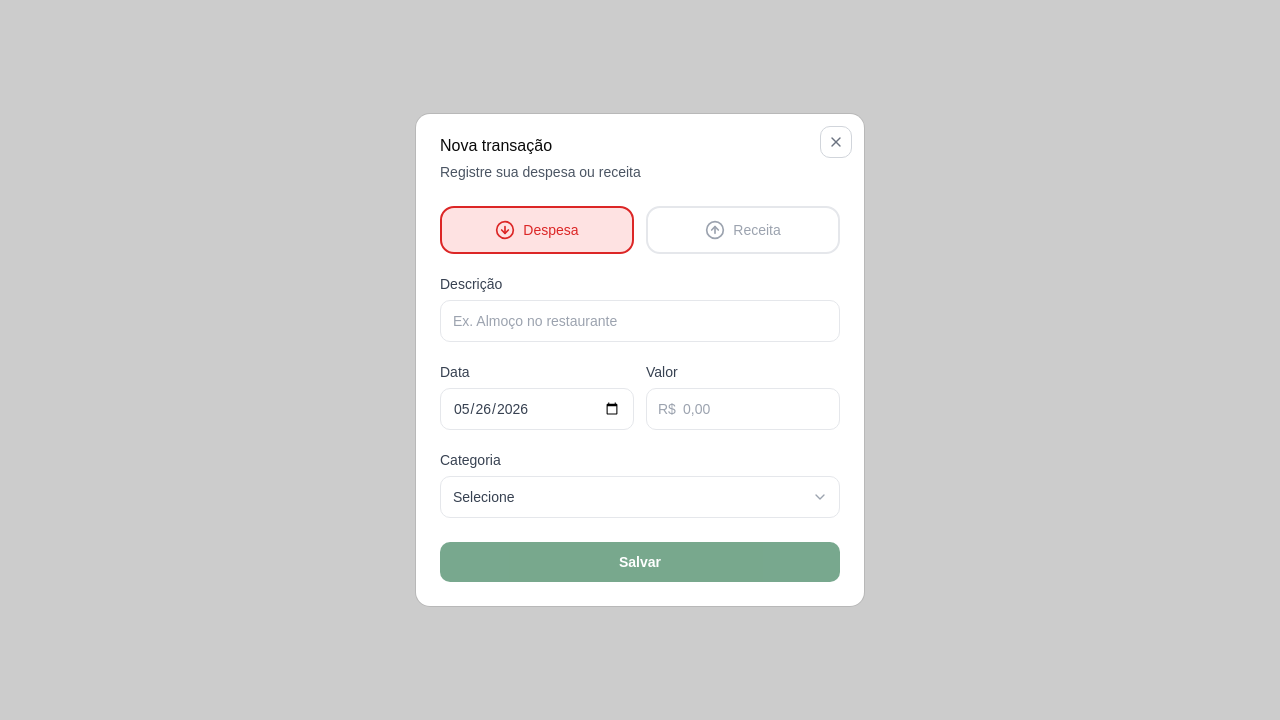
Test: TransactionFormDialog › shows amount validation error for negative value
In the number field with placeholder "0,00": (743, 409) [646,388,840,430], type "-10"
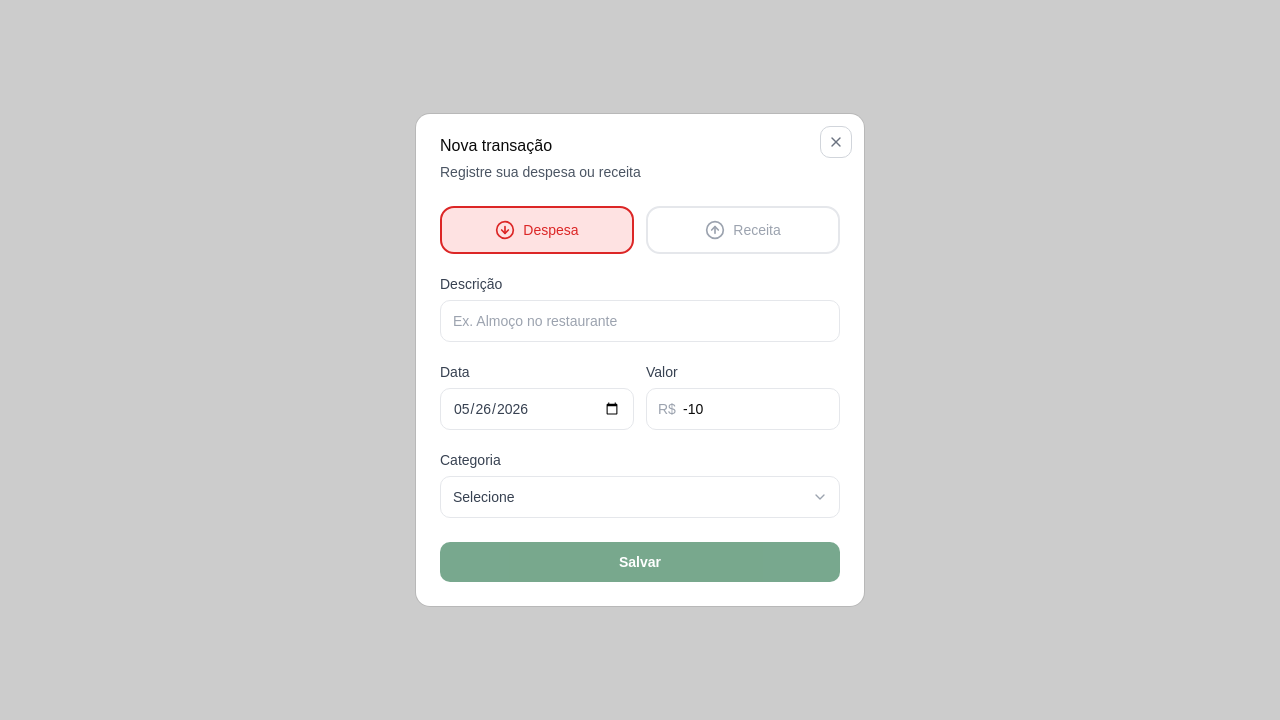
Click the button "Salvar": (640, 562) [440,542,840,582]
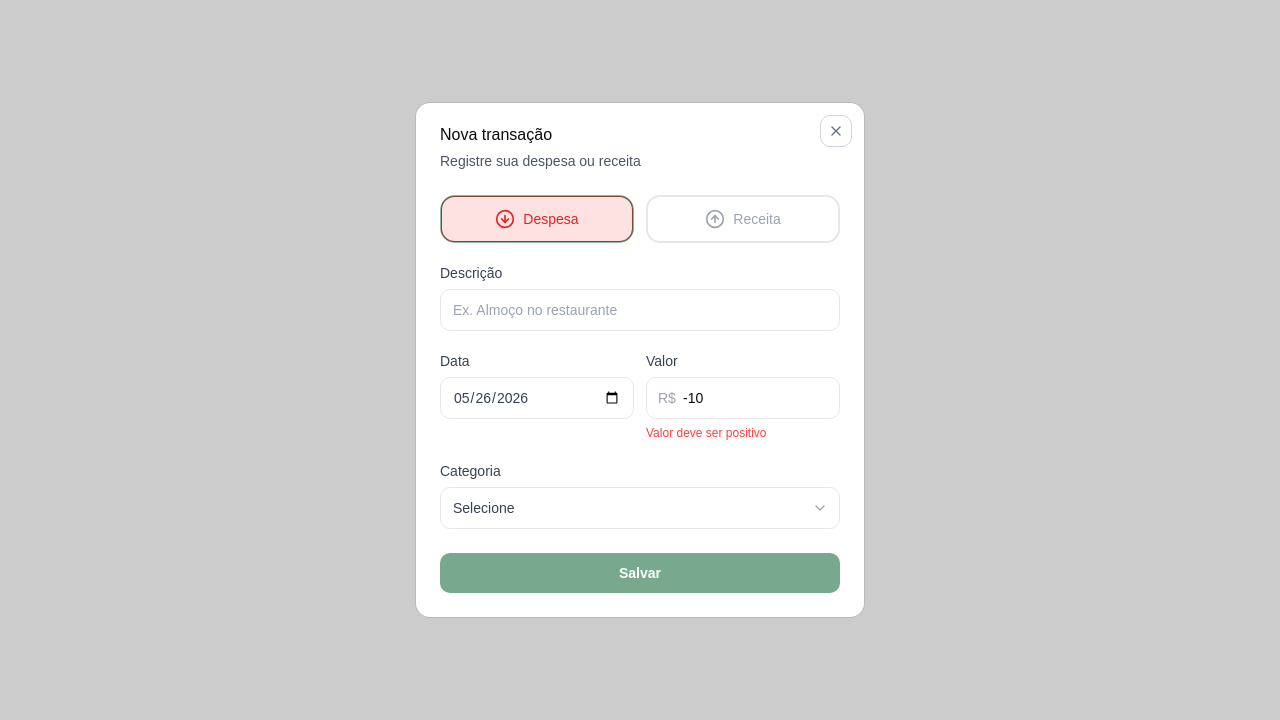
Expected: the text "Valor deve ser positivo" is shown, [646,426,766,440]
